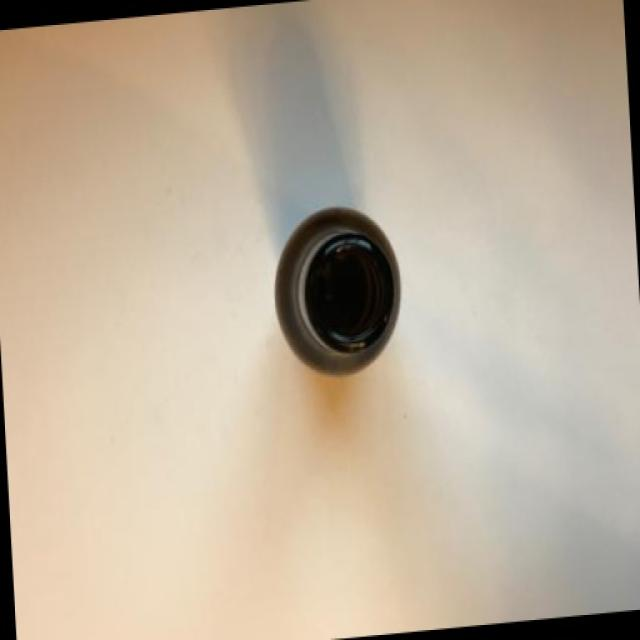vidrio: (255, 180, 424, 409)
